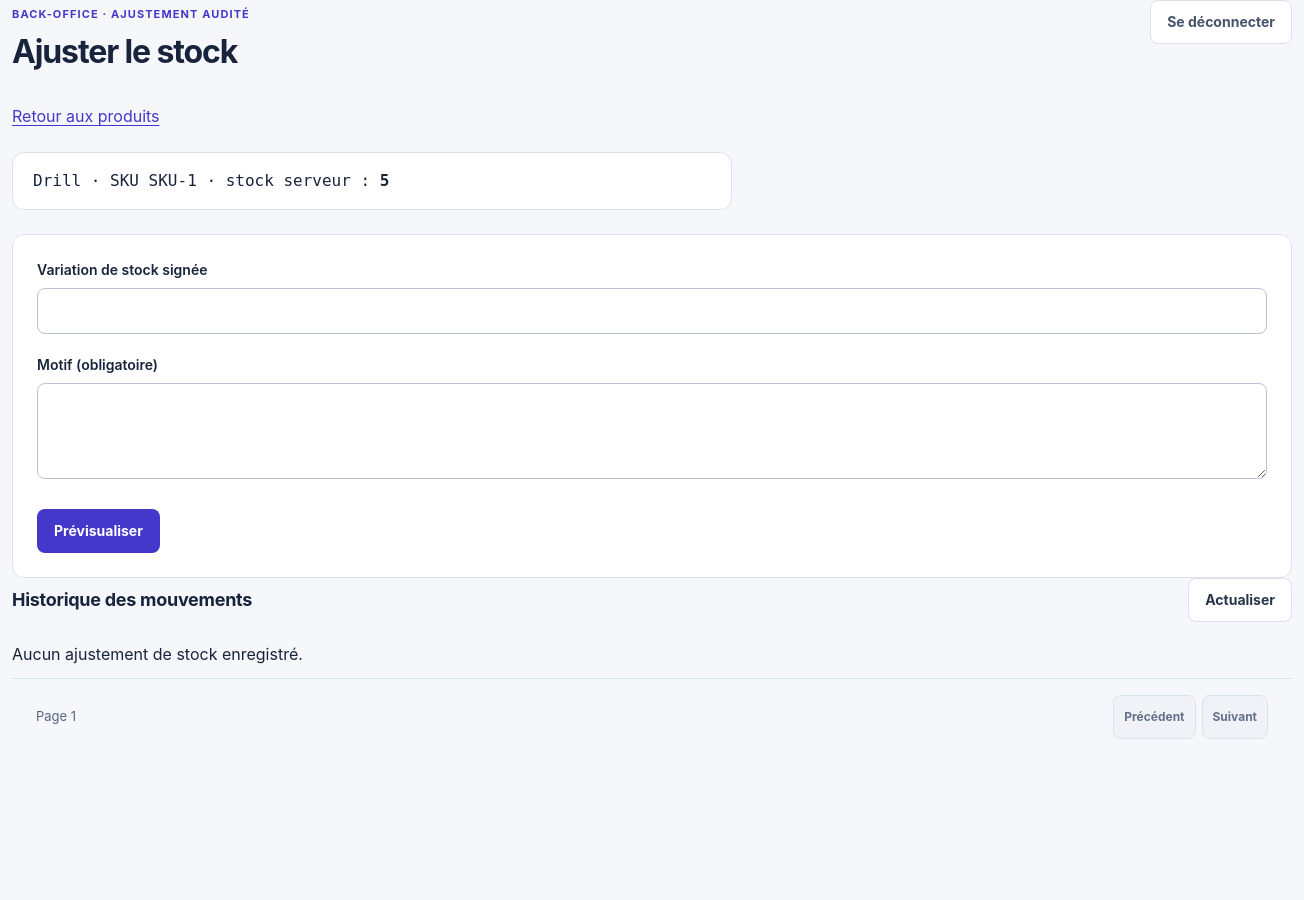
Test: requires a current product read even when the operation is found
The image size is (1304, 900).
Step 1. Type "2" into the field with id "stock-delta" → [652, 311], box x1=37 y1=288 x2=1267 y2=334
Step 2. Type "count" into the text box with id "stock-reason" → [652, 431], box x1=37 y1=383 x2=1267 y2=479
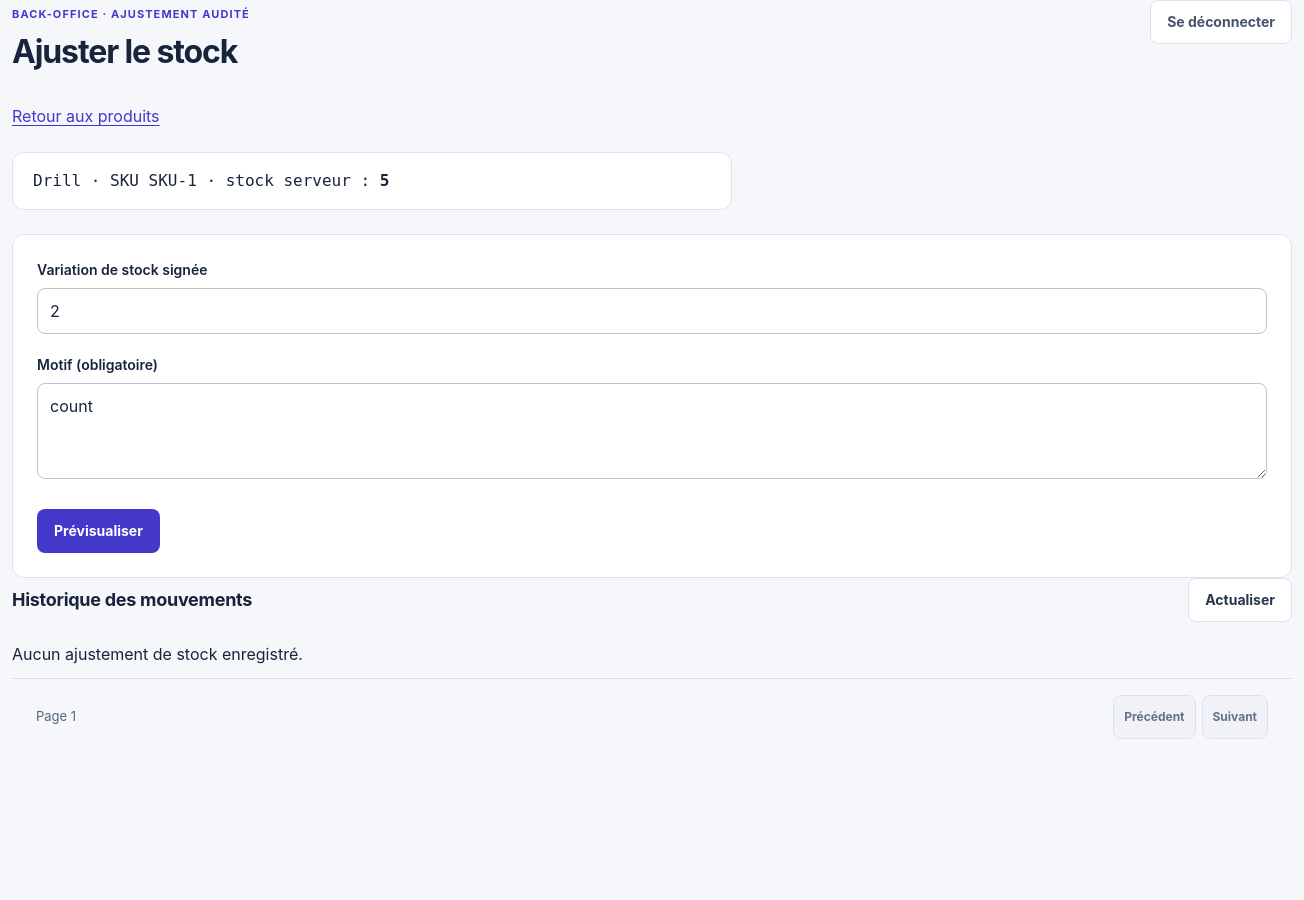
Step 3. Submit the form, box x1=12 y1=234 x2=1292 y2=578
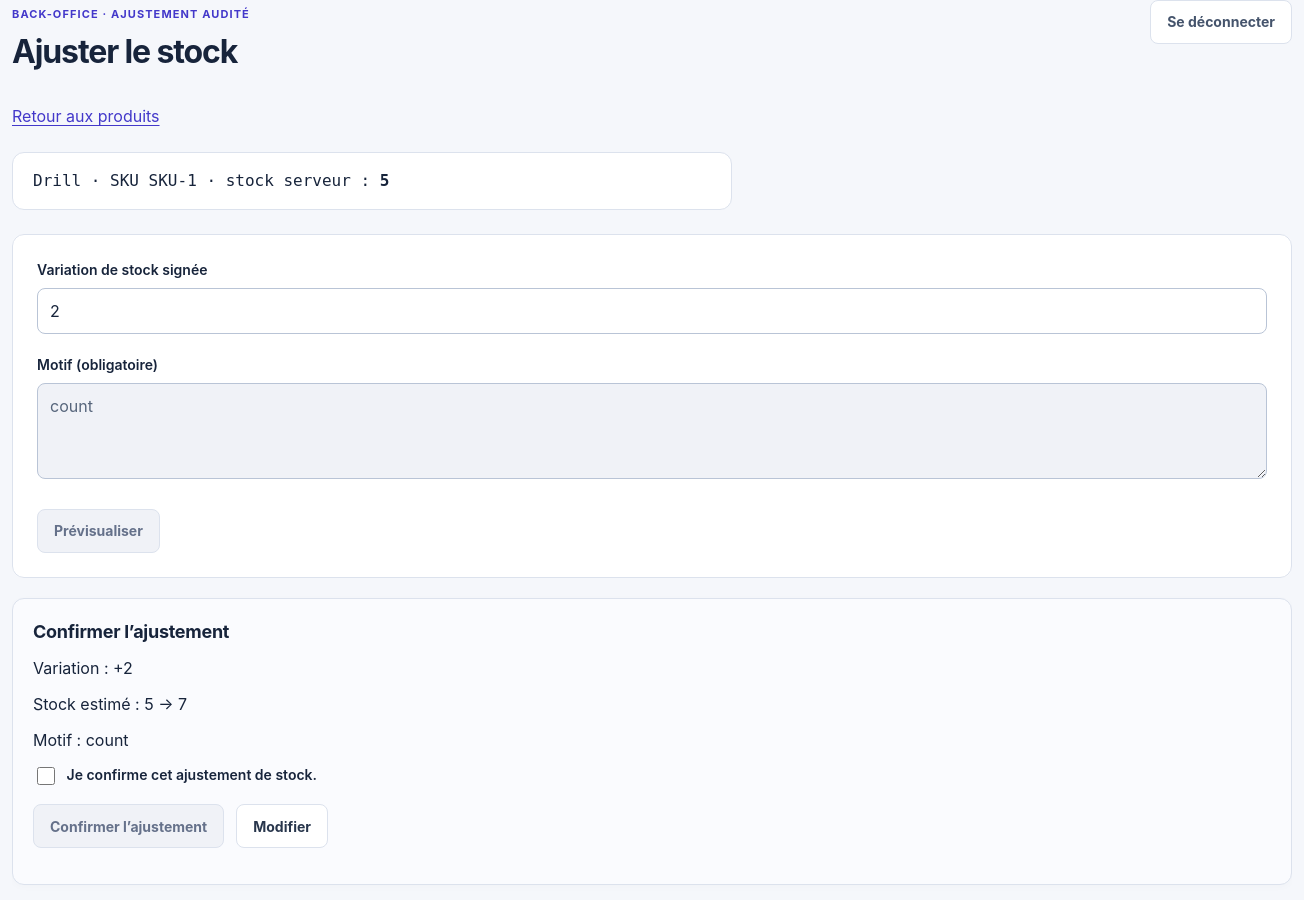
Step 4. Click the checkbox labelled "Je confirme cet ajustement de stock." → [46, 776], box x1=37 y1=767 x2=55 y2=785
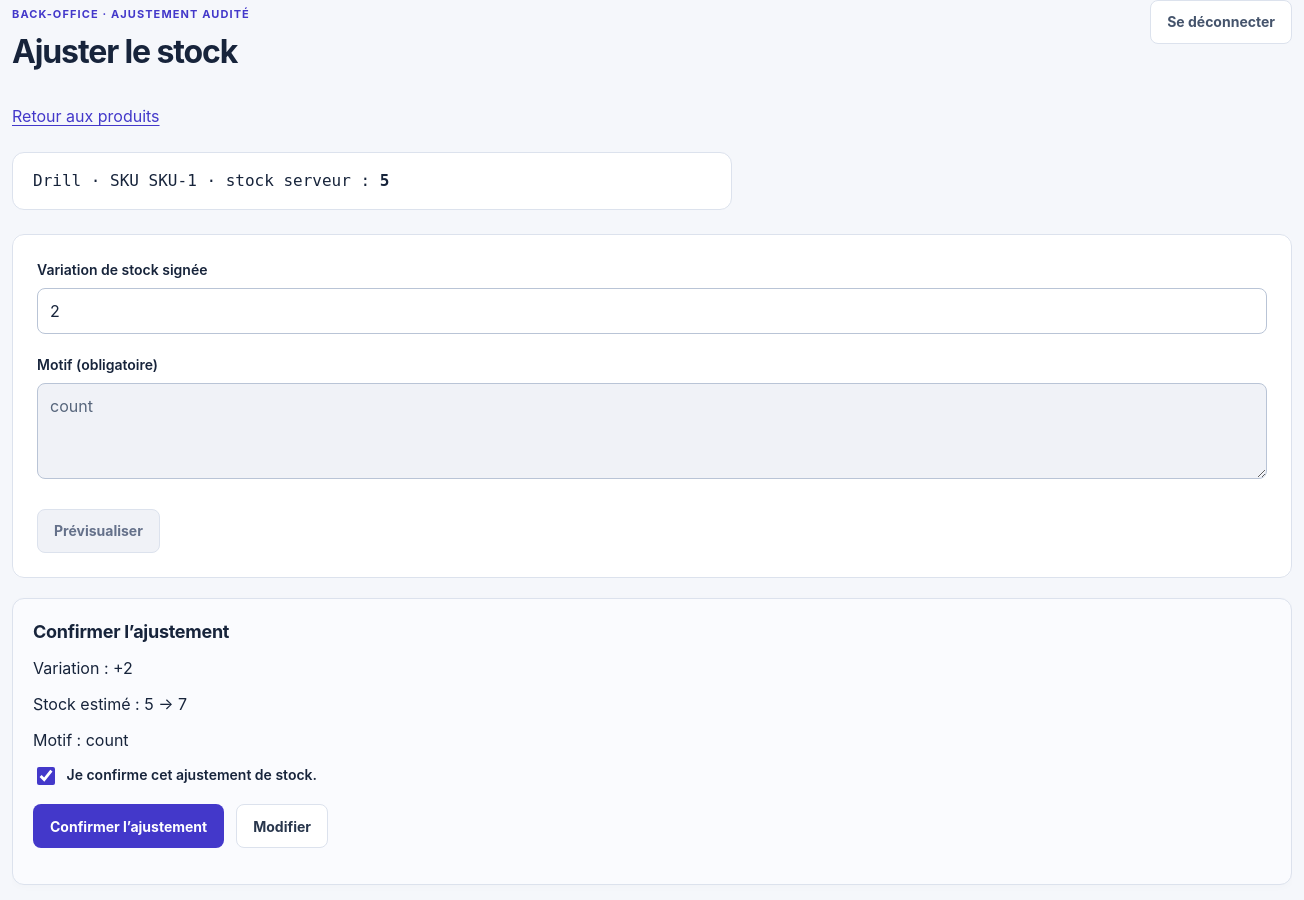
Step 5. Click the button "Confirmer l’ajustement" → [129, 826], box x1=33 y1=804 x2=224 y2=848
(page scrolled)
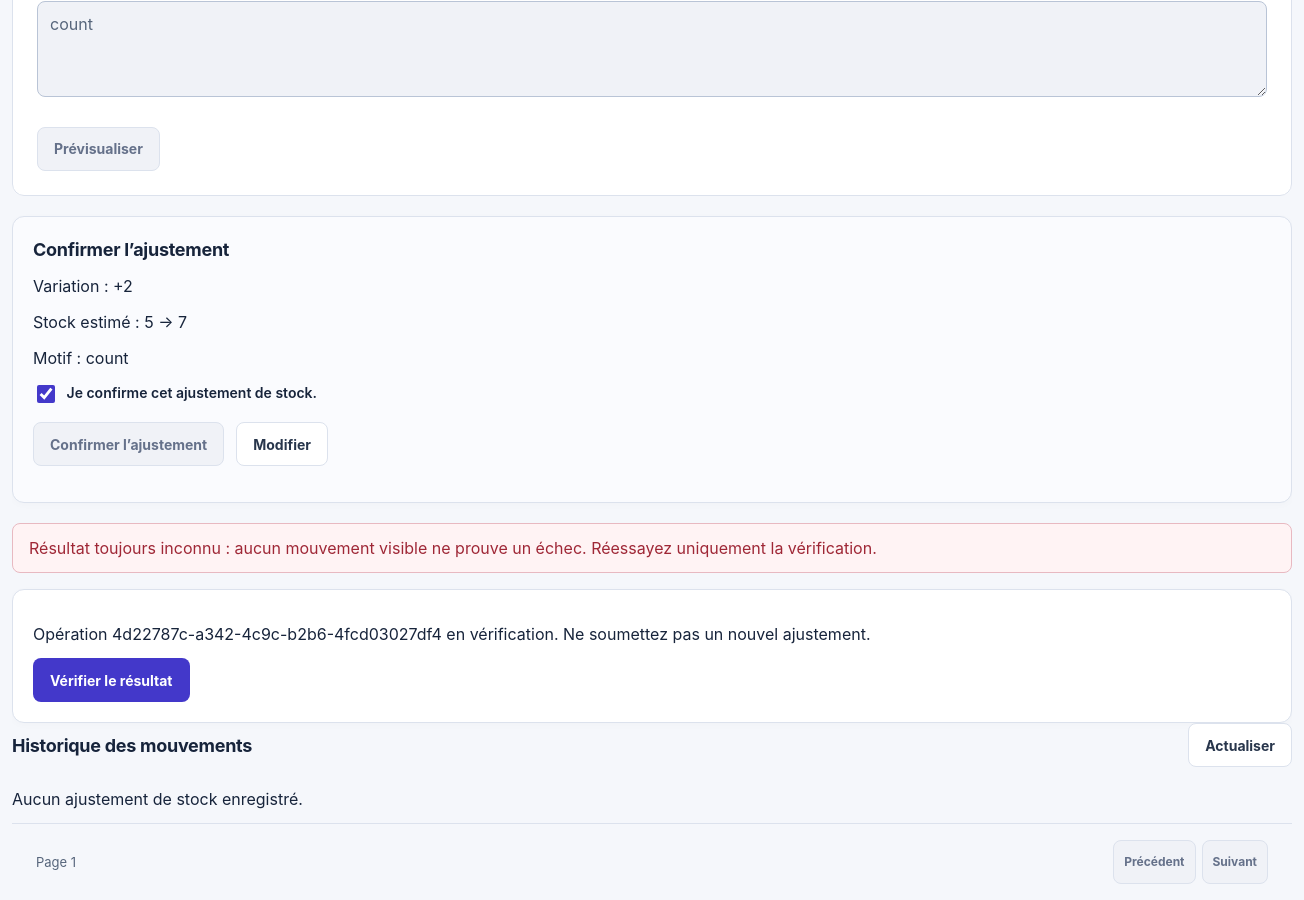
Step 6. Click the button "Vérifier le résultat" → [111, 680], box x1=33 y1=658 x2=190 y2=702
(page scrolled)
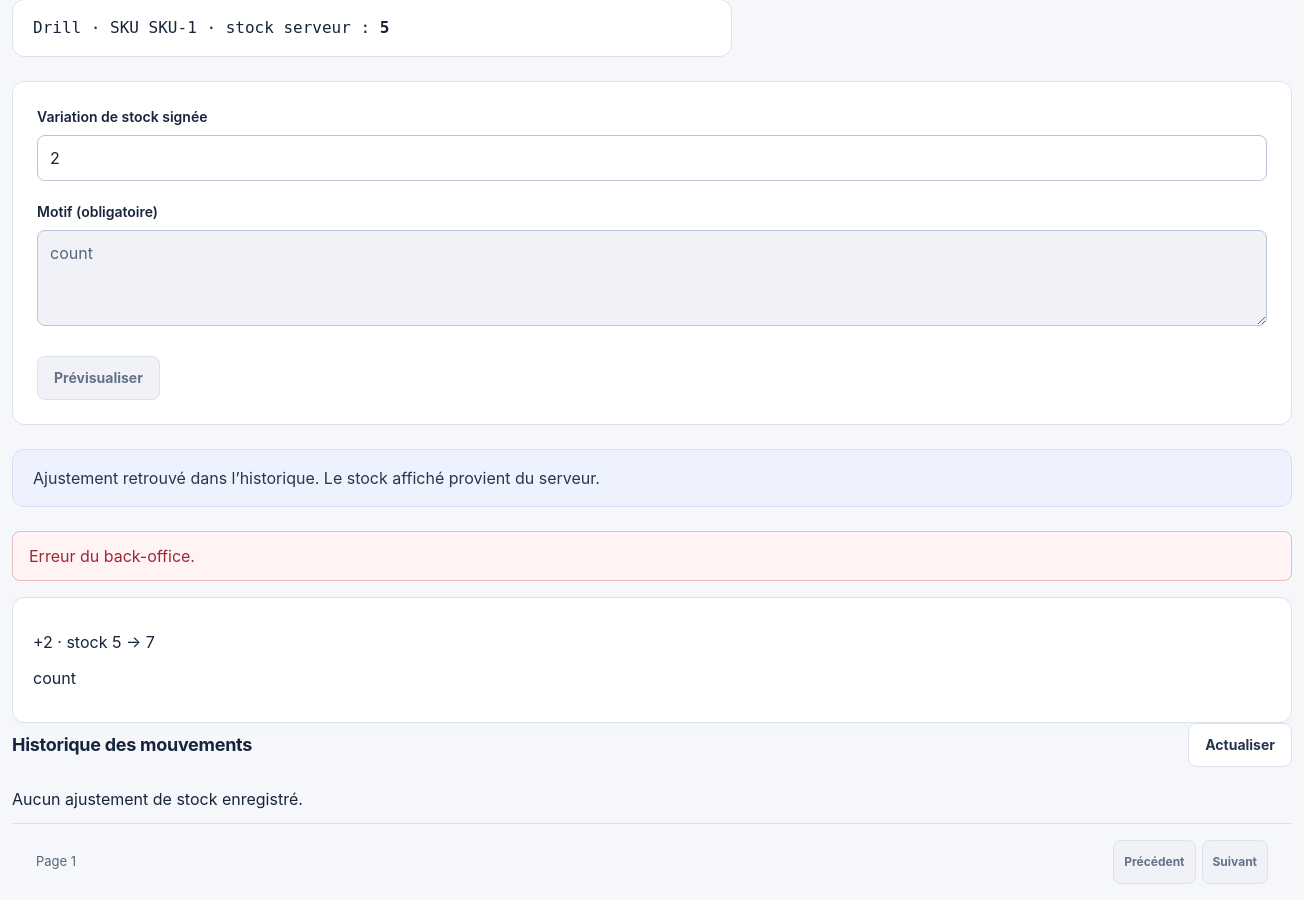
Now the element showing "Variation de stock signée Motif (obligatoire) Prévisualiser" is disabled, box x1=12 y1=81 x2=1292 y2=425
Step 7. Click the button "Actualiser" → [1240, 745], box x1=1188 y1=723 x2=1292 y2=767
(page scrolled)
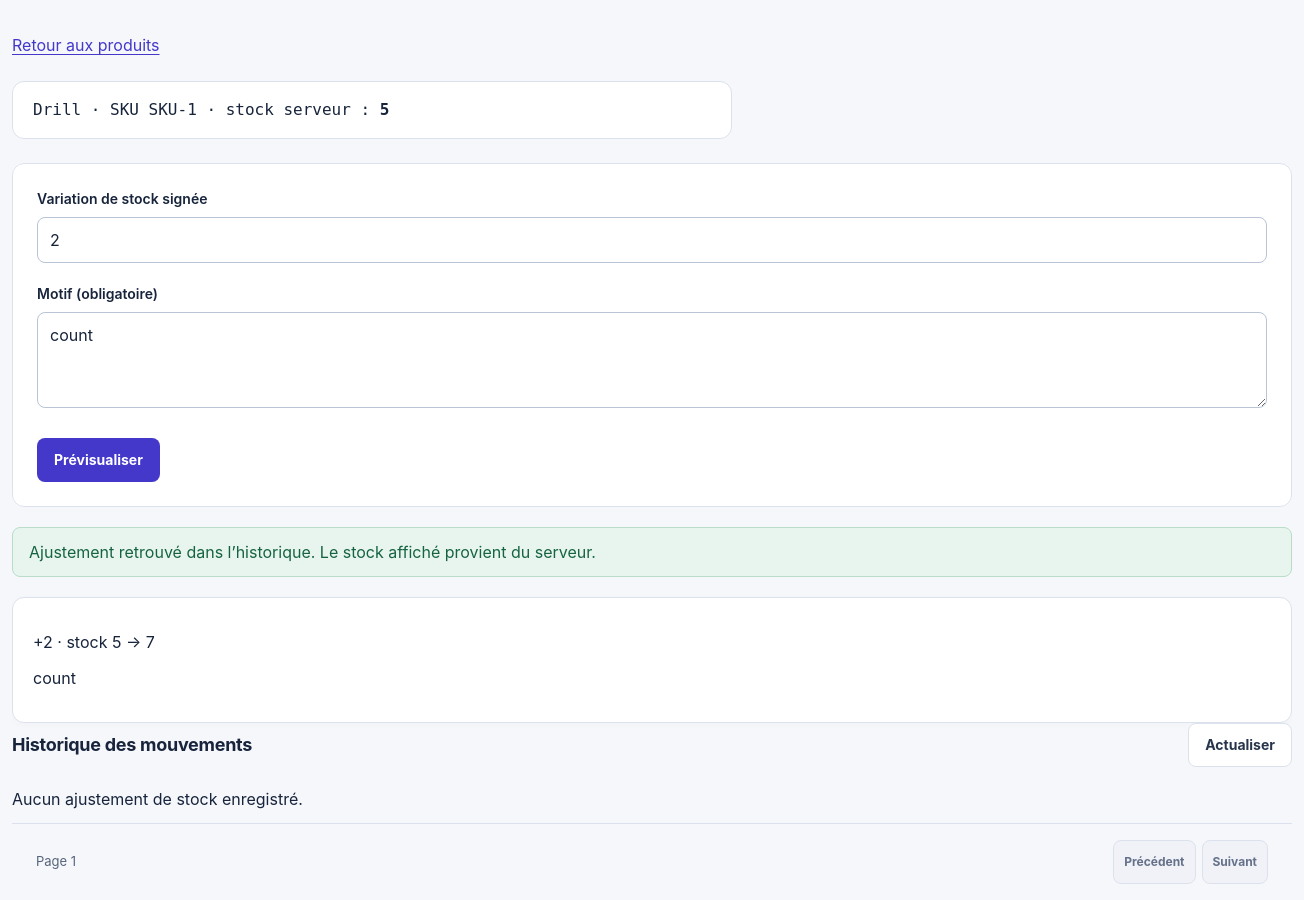
Now the element showing "Variation de stock signée Motif (obligatoire) Prévisualiser" is enabled, box x1=12 y1=163 x2=1292 y2=507
